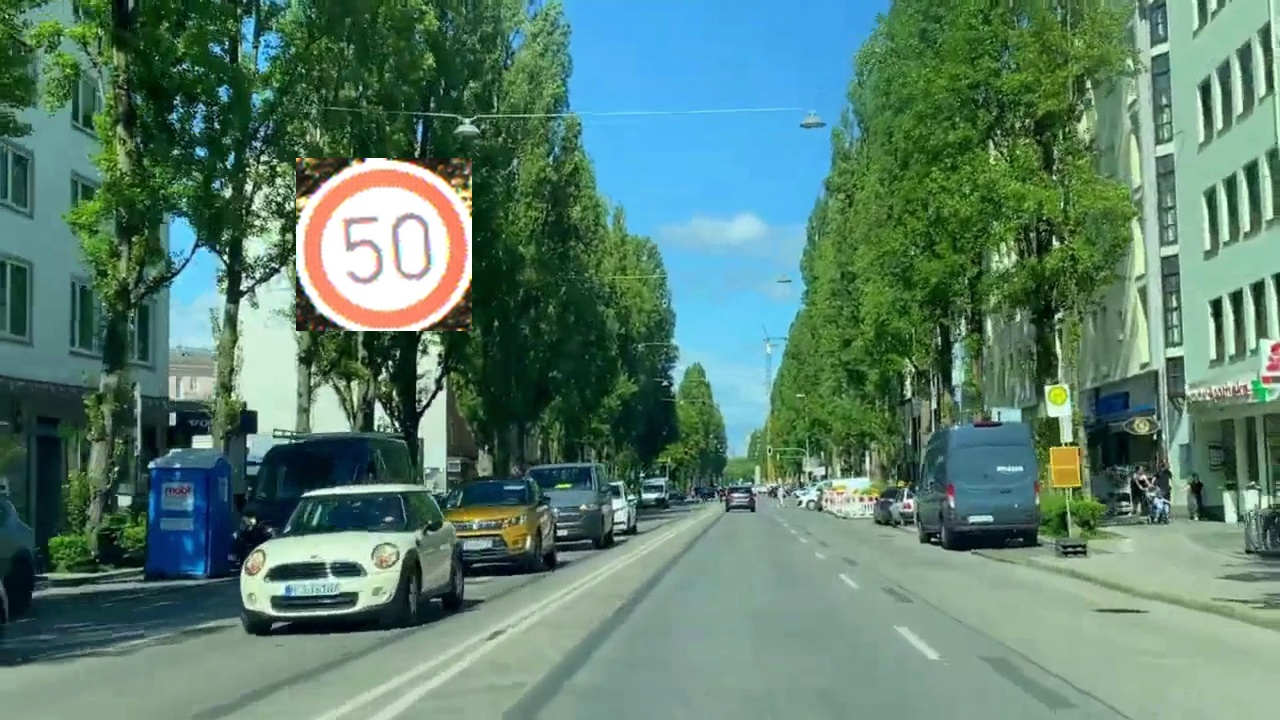Speed 50: (296, 158, 472, 331)
